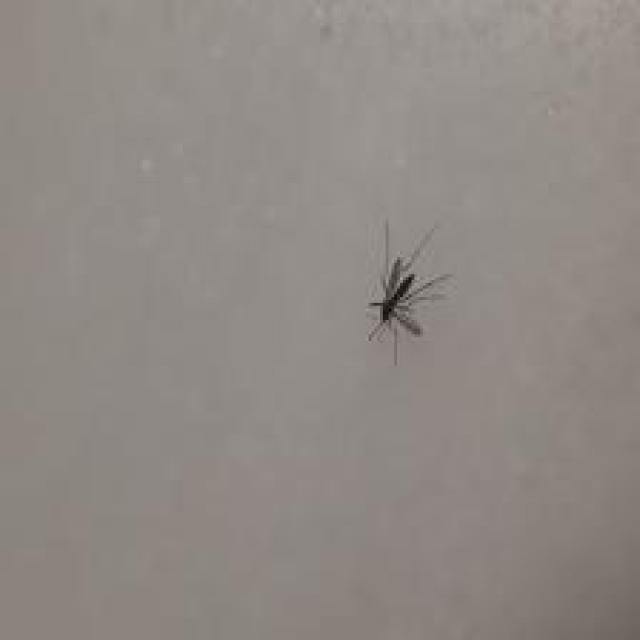Aedes albopictus: (364, 217, 453, 366)
